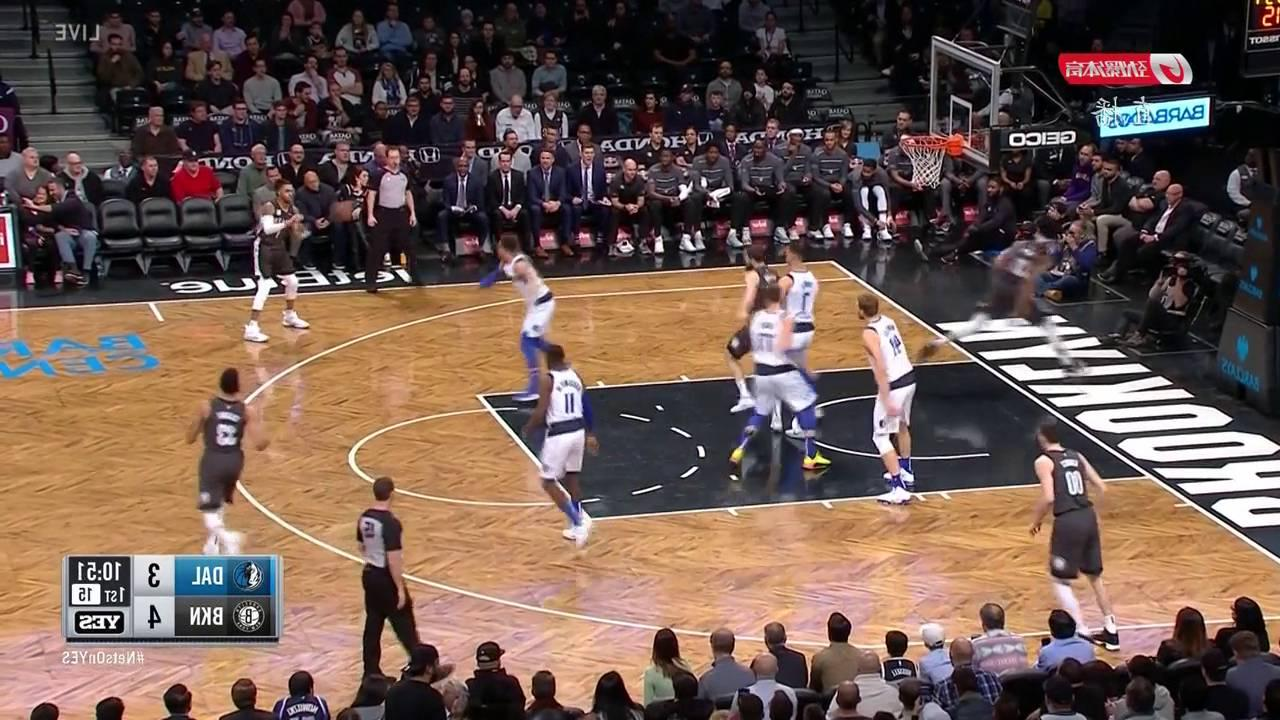basketball: (331, 200, 354, 224)
